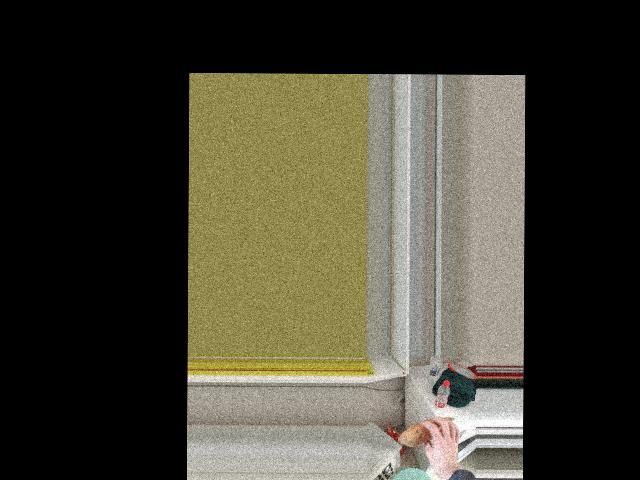sweet_potato: (403, 417, 456, 442)
